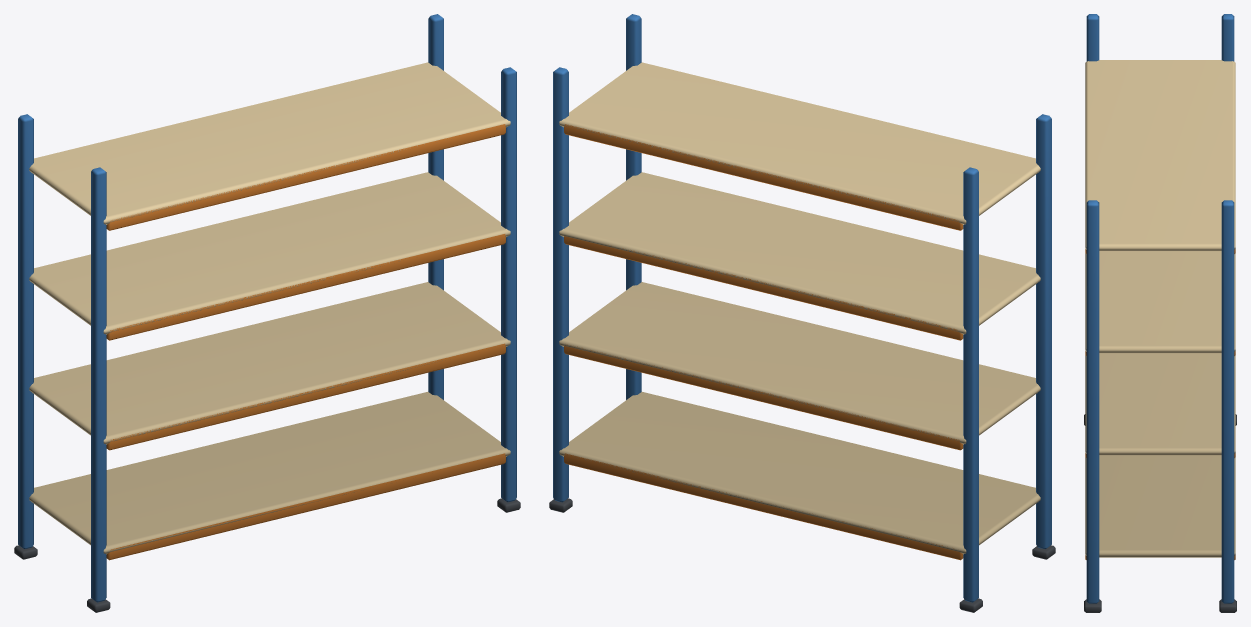
Rendered from Shelving_HD_01.glb.
The picture shows the model from 3 angles, left to right: view 1: azimuth 30°, elevation 25°; view 2: azimuth 150°, elevation 25°; view 3: azimuth 270°, elevation 25°; orthographic projection. The views are drawn at different scales.
Visible parts, largest first — view 1: SM_Shelving_HD_01; view 2: SM_Shelving_HD_01; view 3: SM_Shelving_HD_01.
Part boxes in pixels (<box>): SM_Shelving_HD_01: <box>14,14,520,612</box>; SM_Shelving_HD_01: <box>549,14,1055,612</box>; SM_Shelving_HD_01: <box>1084,14,1236,612</box>.
Bounding box in the file's own units: 1.83 × 1.8 × 0.61.
Materials: 1 (1 with a texture image).
